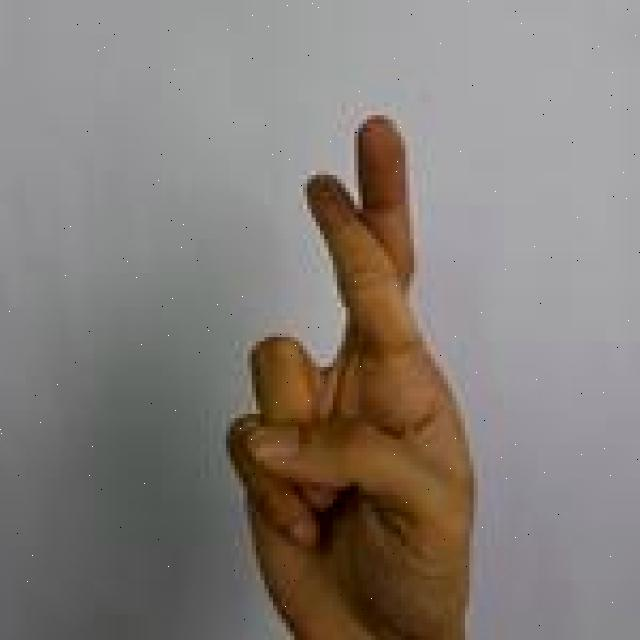R: (228, 111, 483, 640)
